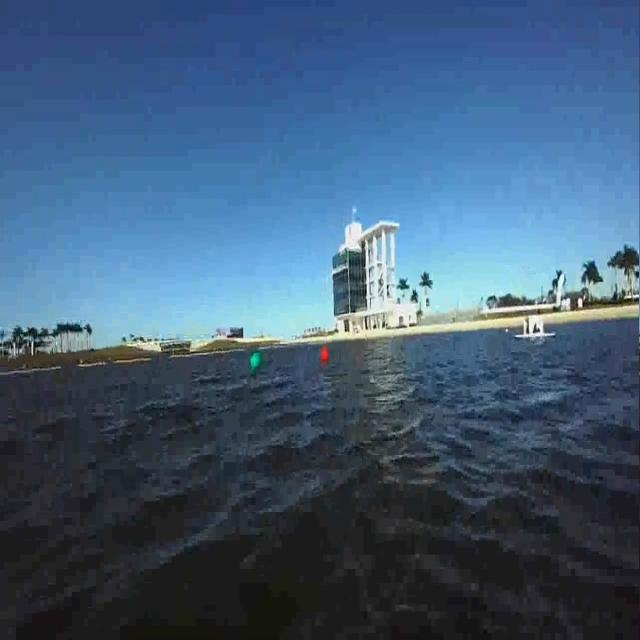green-buoy: (251, 352, 262, 369)
red-buoy: (322, 348, 328, 361)
